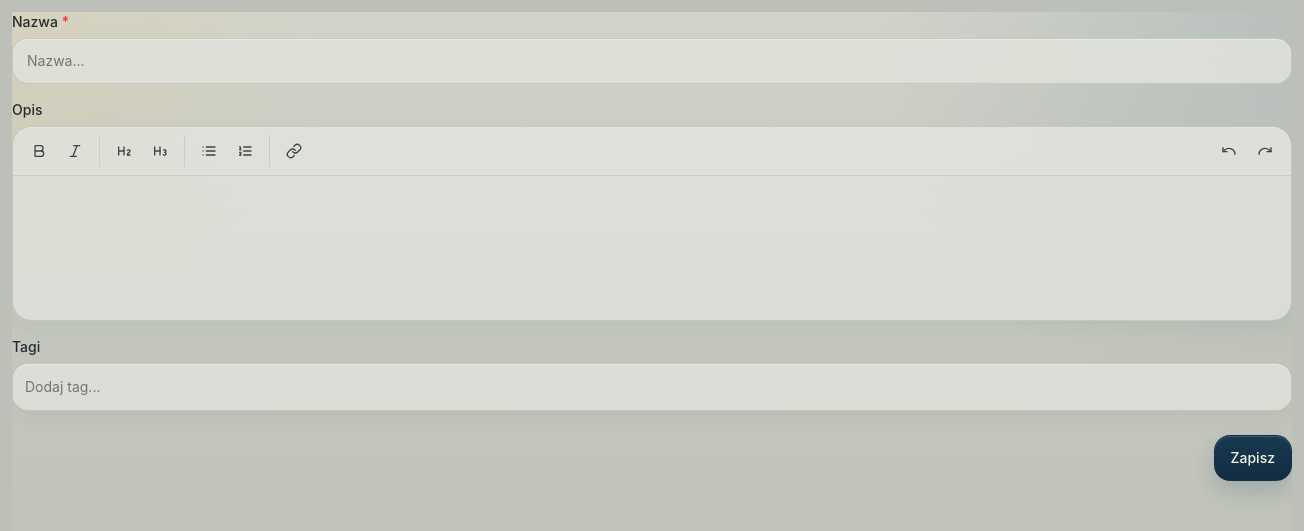
it: EntityForm › shows error when name is empty and form is submitted
Click the button "Zapisz".
click(1253, 458)  # box [1214, 435, 1292, 481]
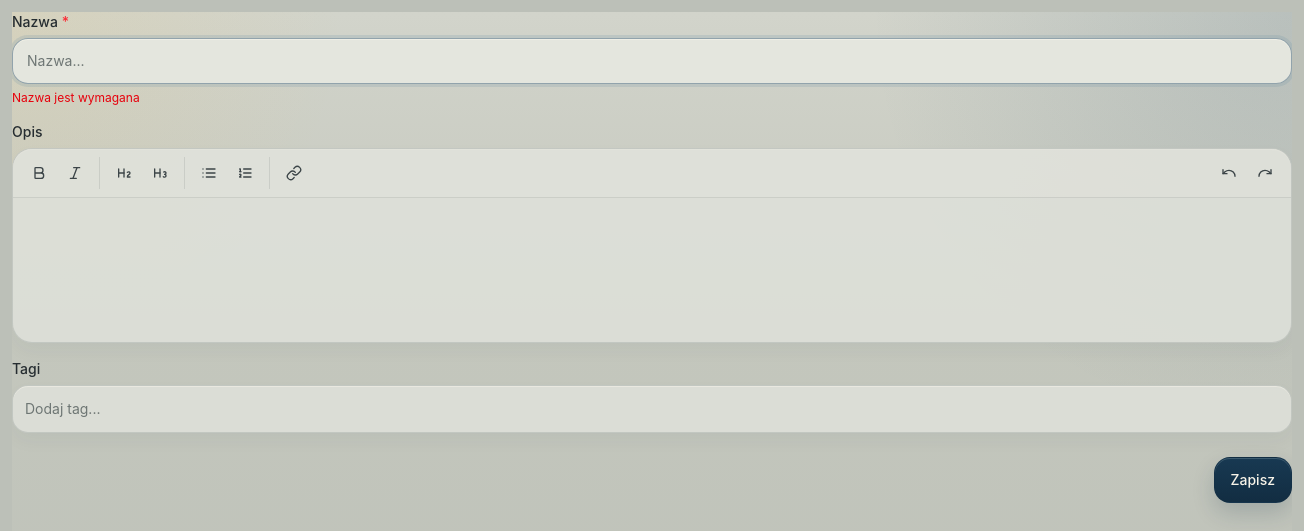
Now the message "Nazwa jest wymagana" is shown, box [12, 90, 140, 105]
